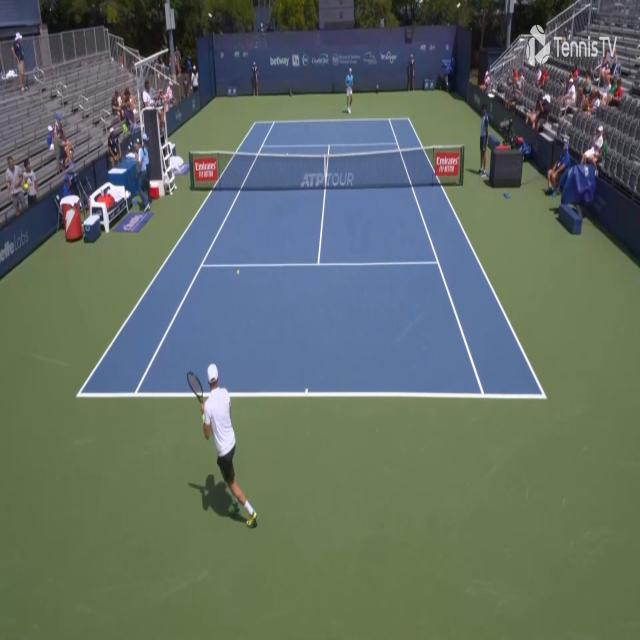tennis-player: (184, 358, 262, 528), (344, 67, 354, 115)
